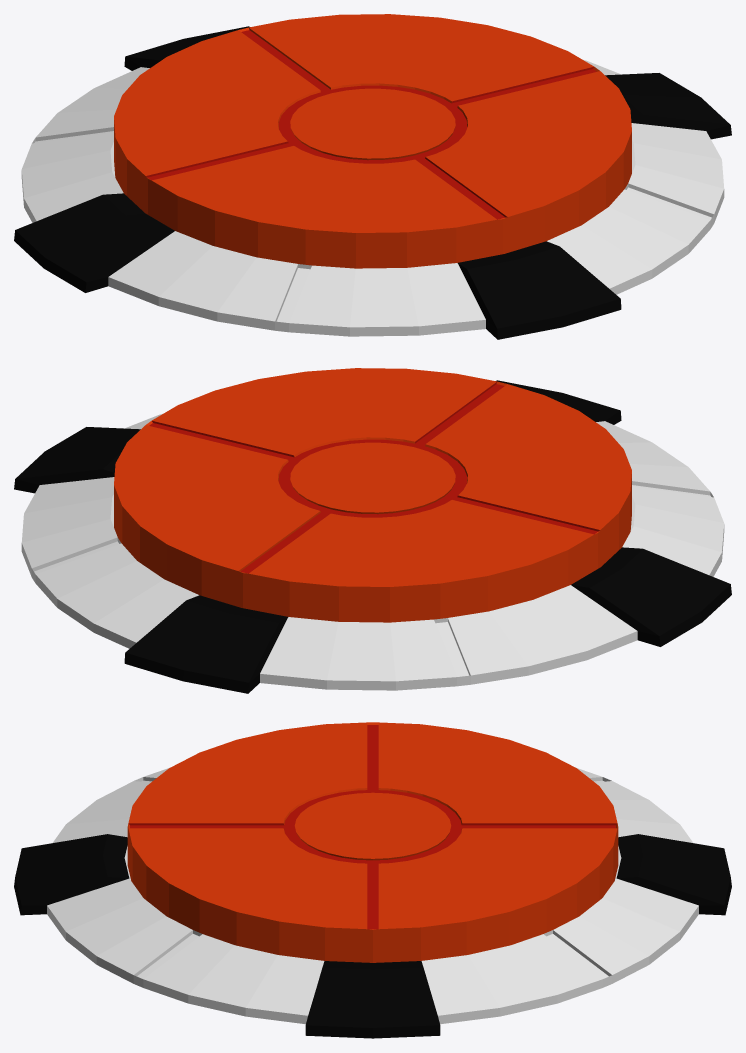
Rendered from PressurePlate.fbx.
The picture shows the model from 3 angles, top to bottom: view 1: azimuth 30°, elevation 25°; view 2: azimuth 150°, elevation 25°; view 3: azimuth 270°, elevation 25°; orthographic projection. The views are drawn at different scales.
Parts seen in each view (by area): view 1: PresurePlate, PresurePlateBase; view 2: PresurePlate, PresurePlateBase; view 3: PresurePlate, PresurePlateBase.
Part boxes in pixels (x1,y1,x2,y2): PresurePlate: (114, 14, 631, 268); PresurePlateBase: (14, 26, 731, 339); PresurePlate: (114, 368, 631, 622); PresurePlateBase: (14, 380, 731, 693); PresurePlate: (127, 722, 618, 962); PresurePlateBase: (14, 767, 731, 1038).
Bounding box in the file's own units: 293 × 27.45 × 293.
